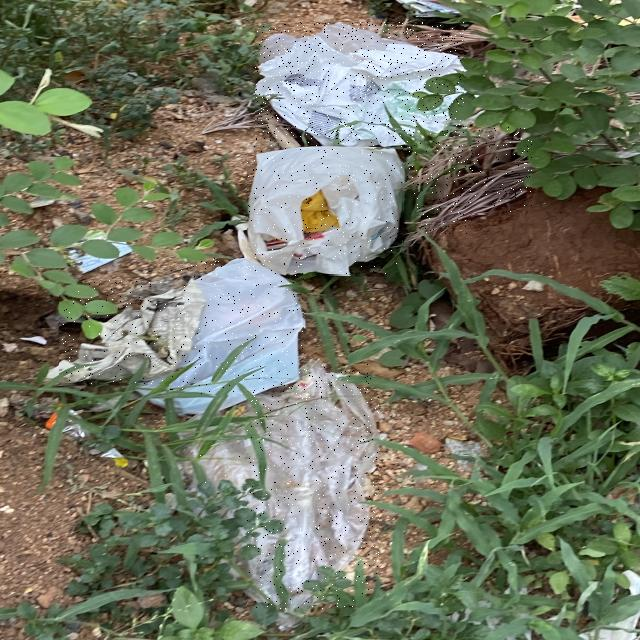biowaste: (407, 128, 532, 214), (421, 208, 471, 234)
paper: (60, 280, 205, 384)
plastic: (247, 364, 379, 610), (255, 22, 464, 146), (247, 147, 403, 275), (170, 259, 304, 395), (200, 441, 258, 485)
